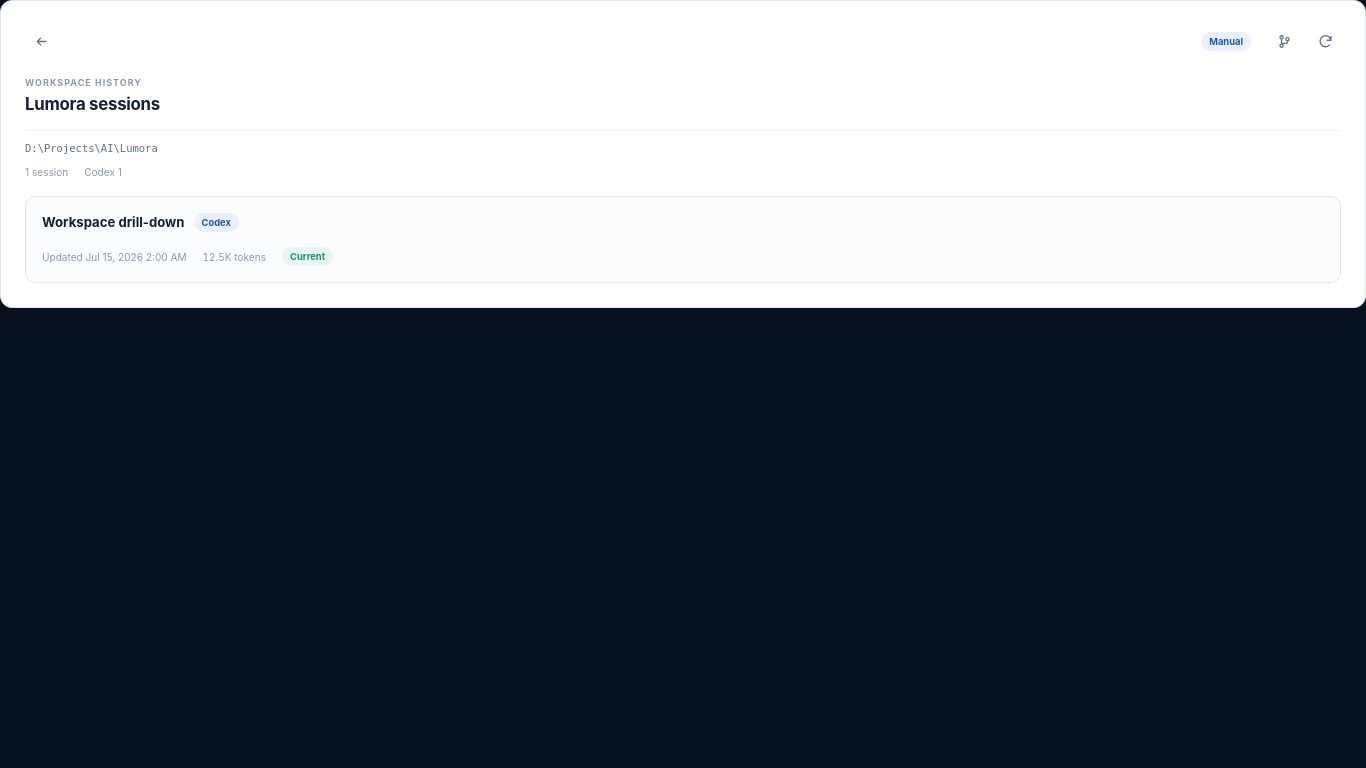
Test case: WorkspaceSessionsView › changes › toggles a changes panel for the workspace from the toolbar
This screenshot has width=1366, height=768.
Click the button named "Changes" at (1284, 41), box [1268, 25, 1300, 57]
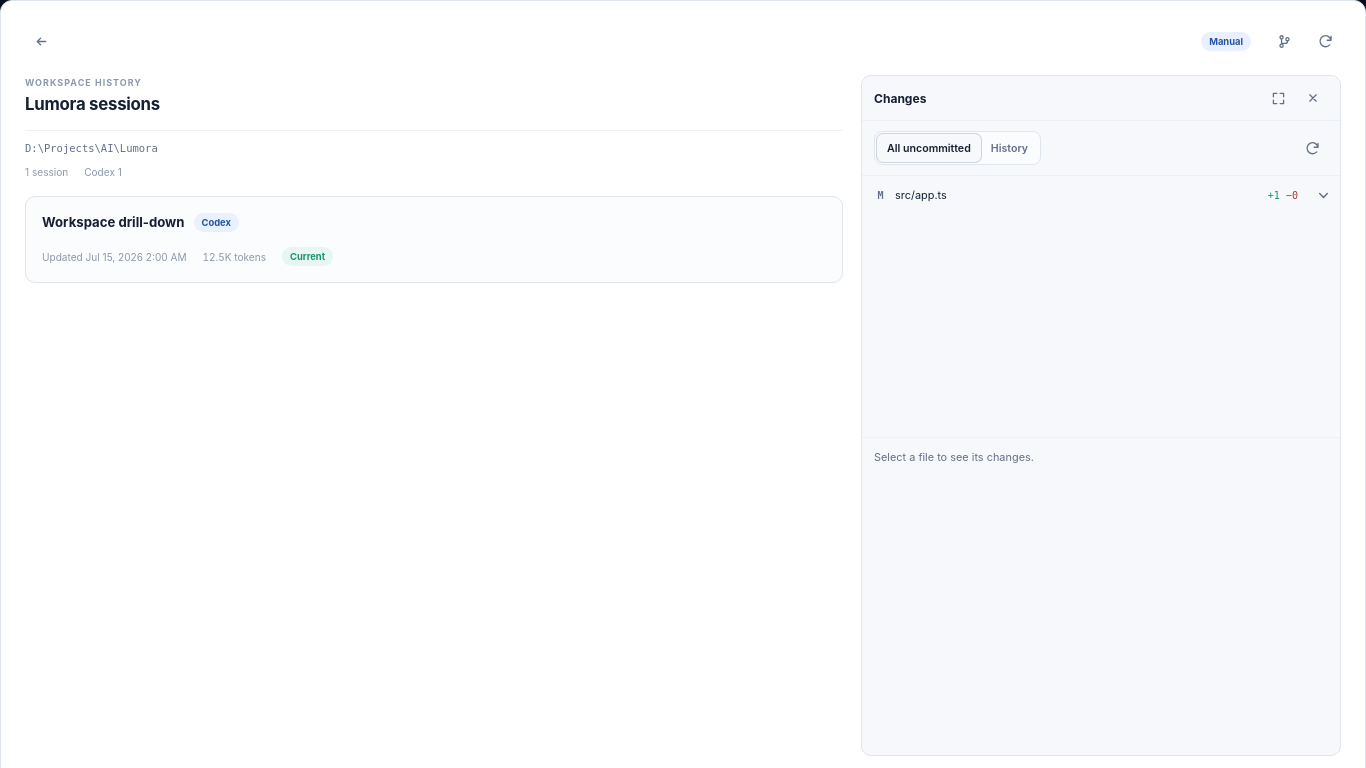
Expected: the text "src/app.ts" is shown, [895, 188, 947, 202]
Click the button named "Changes" at (1284, 41), box [1268, 25, 1300, 57]
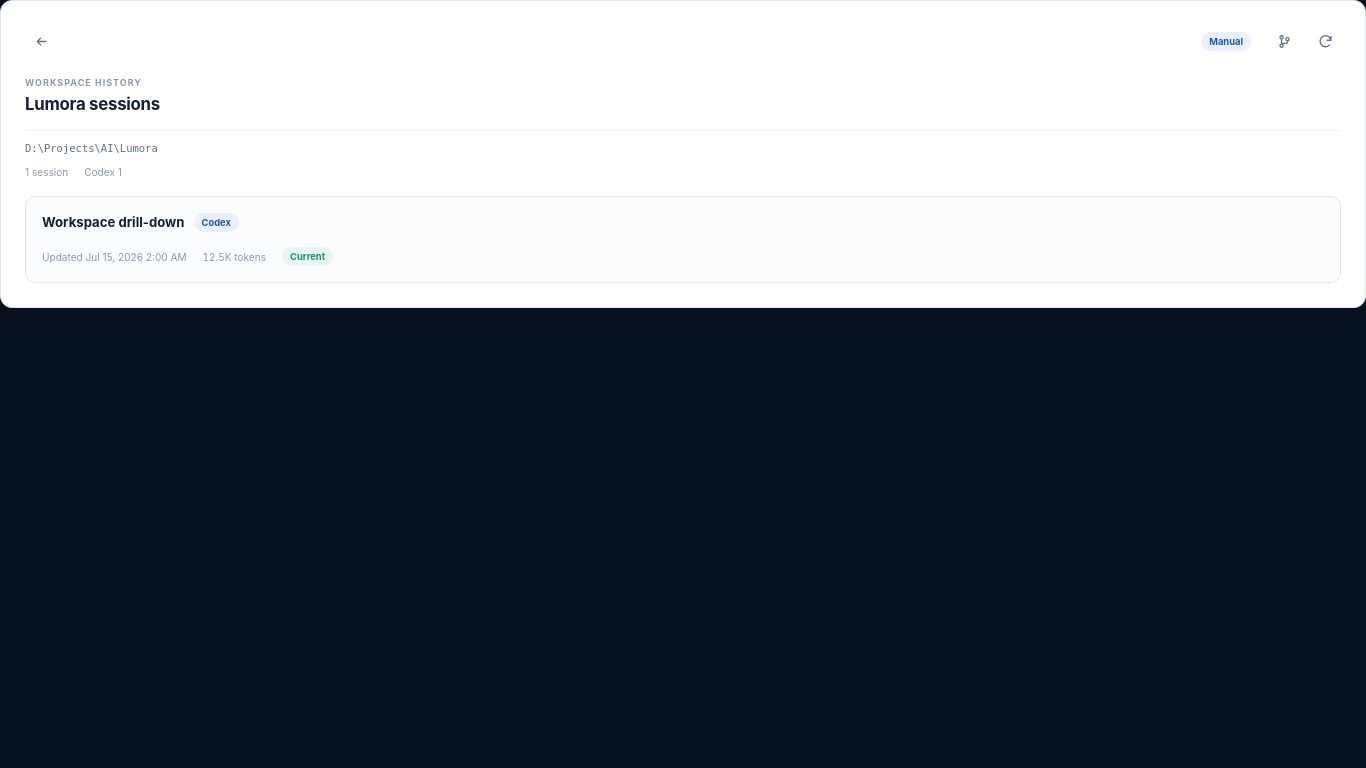
Expected: the heading "Changes" is gone
